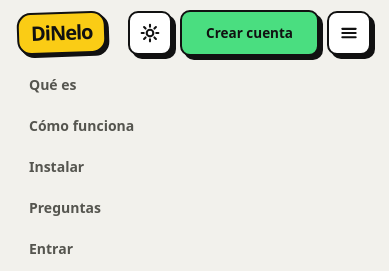
Scenario: LandingCabecera › el menú abre y cierra las mismas anclas y avisa su estado
Click the button named "menú": (349, 33) [327, 11, 371, 55]
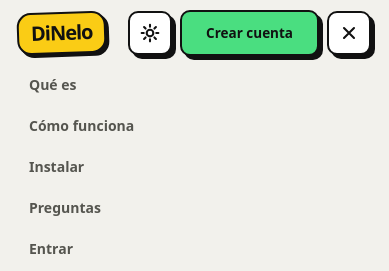
Expected: the button named "menú" is expanded, [327, 11, 371, 55]
Click the link "Instalar": (57, 167) [29, 157, 84, 176]
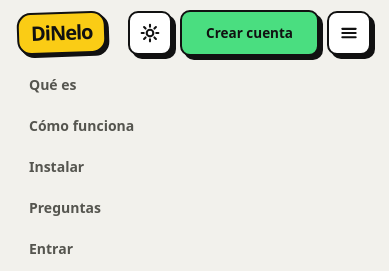
Expected: the button named "menú" is collapsed, [327, 11, 371, 55]
